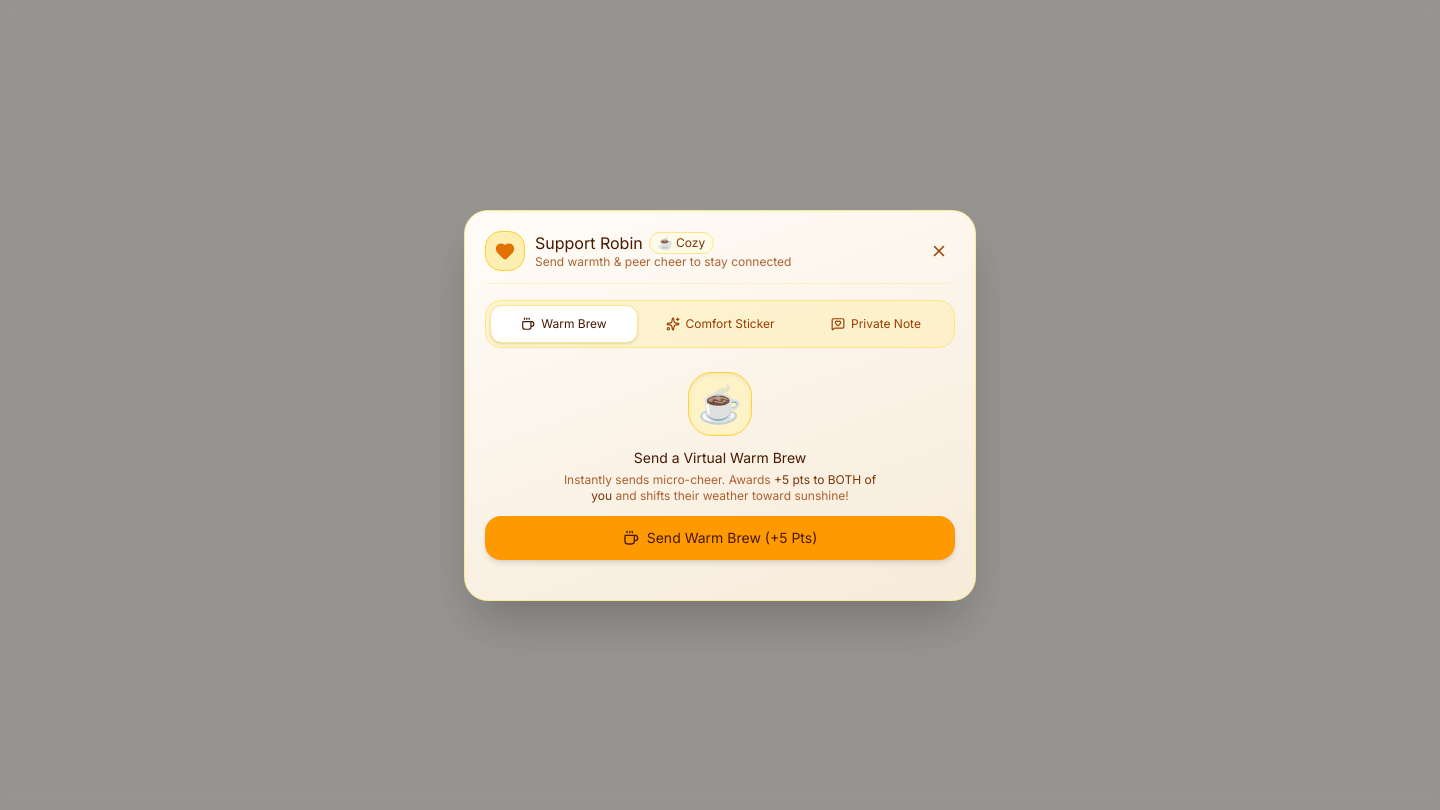
Test: PeerSupportDrawer Component › handles sending Warm Brew with optimistic points and feedback
What coordinates should you click on to do the following:
click the button "Send Warm Brew (+5 Pts)"
I would click on:
 (720, 538)
Its box is [485, 516, 955, 560].
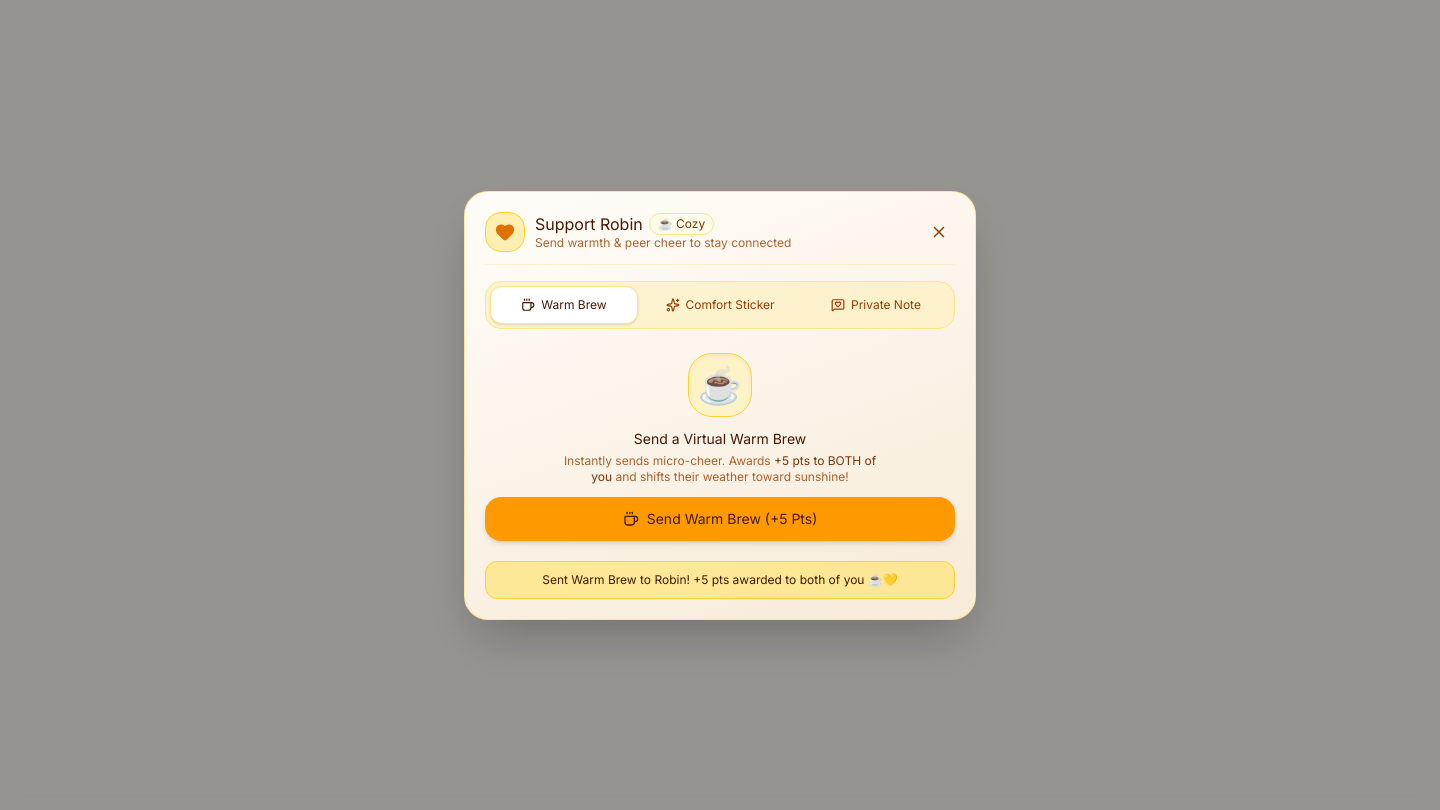
Now the text "Sent Warm Brew to Robin! +5 pts awarded to both of you ☕💛" is shown, box [485, 560, 955, 598]
